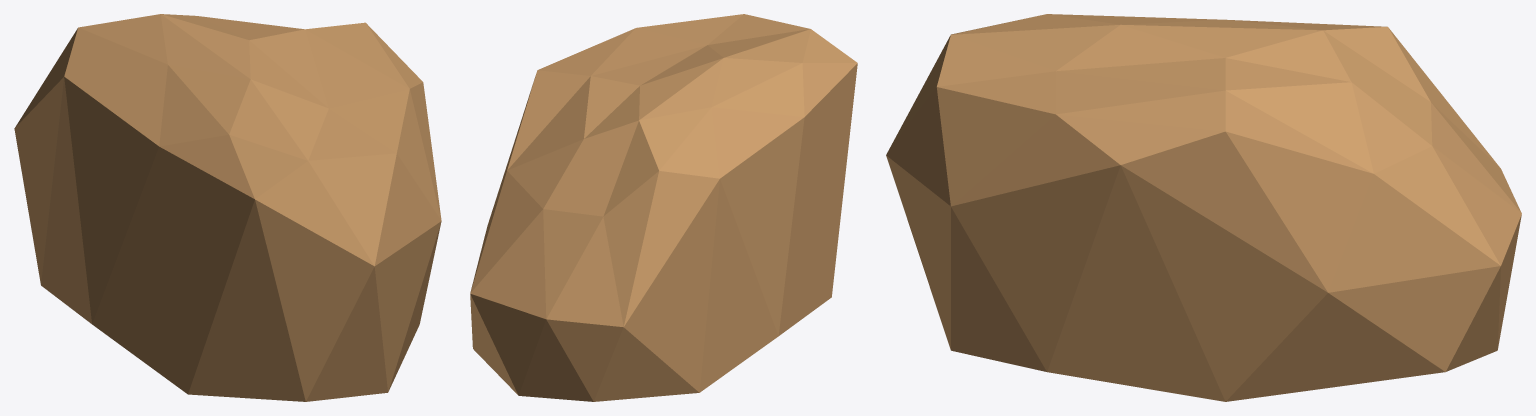
Rendered from Rock Orange Md 002.fbx.
3 views of the same model, side by side, from view 1: azimuth 30°, elevation 25°; view 2: azimuth 150°, elevation 25°; view 3: azimuth 270°, elevation 25° (orthographic). The views are drawn at different scales.
Parts seen in each view (by area): view 1: Rock 002.005; view 2: Rock 002.005; view 3: Rock 002.005.
Part boxes in pixels (left/top/right/bottom): Rock 002.005: left=14, top=14, right=441, bottom=401; Rock 002.005: left=470, top=14, right=857, bottom=401; Rock 002.005: left=886, top=14, right=1521, bottom=401.
Size of the model in its own units: 120 by 110 by 215.
